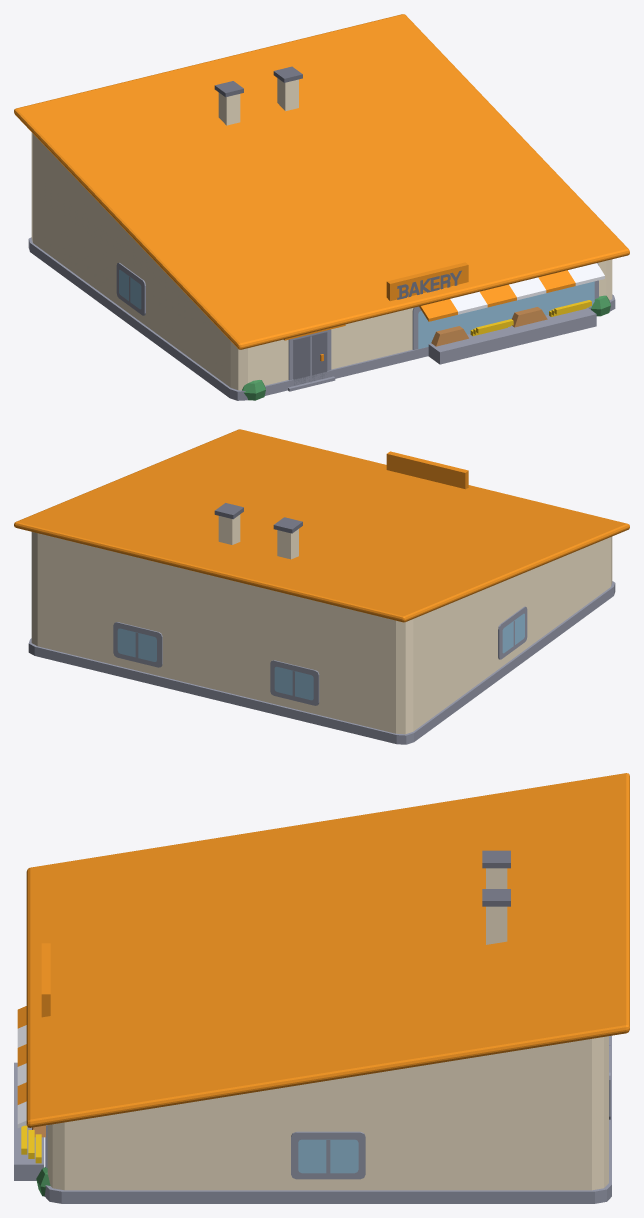
Rendered from bakery-2x2-t2-tone-a.glb.
3 renders of one model, top to bottom at view 1: azimuth 30°, elevation 25°; view 2: azimuth 150°, elevation 25°; view 3: azimuth 270°, elevation 25°, orthographic. The views are drawn at different scales.
Parts seen in each view (by area): view 1: bakery-2x2-t2-tone-a; view 2: bakery-2x2-t2-tone-a; view 3: bakery-2x2-t2-tone-a.
Part boxes in pixels (left/top/right/bottom): bakery-2x2-t2-tone-a: left=14, top=14, right=629, bottom=400; bakery-2x2-t2-tone-a: left=14, top=429, right=629, bottom=744; bakery-2x2-t2-tone-a: left=14, top=773, right=629, bottom=1203.
Bounding box in the file's own units: 2 × 0.7426 × 2.04.
Materials: 1 (1 with a texture image).
